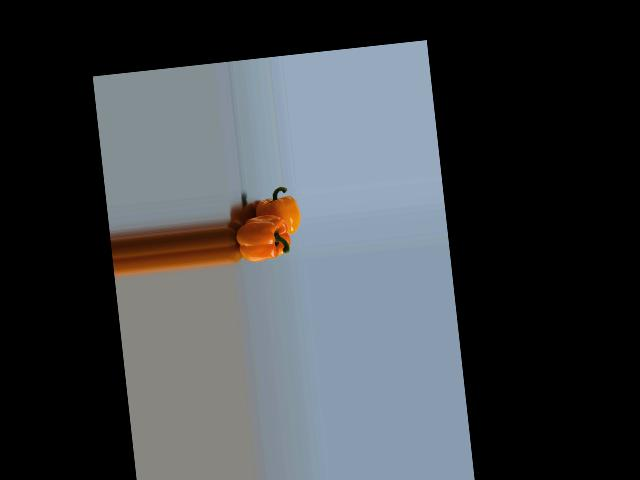bell_pepper: (245, 185, 302, 240)
